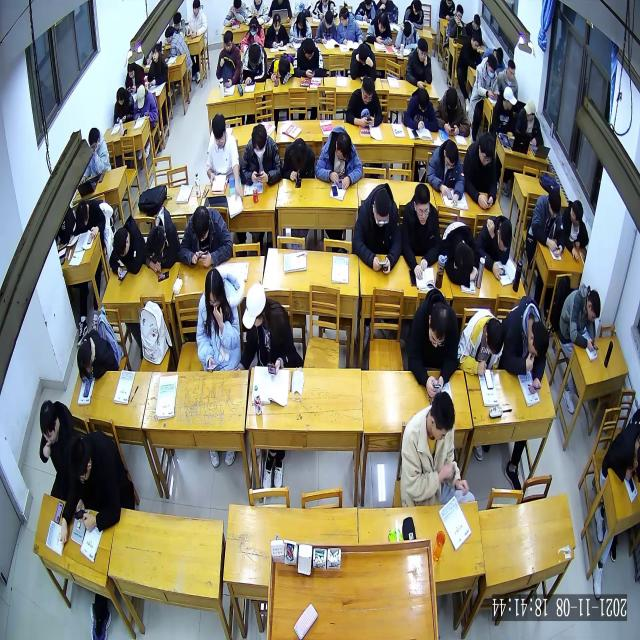bow: (501, 294, 550, 394), (440, 218, 480, 288), (141, 207, 181, 276), (476, 213, 514, 280), (109, 214, 146, 282), (76, 328, 117, 383), (69, 196, 107, 244), (283, 136, 316, 180), (240, 41, 267, 85), (349, 40, 378, 79), (364, 9, 392, 46), (266, 54, 295, 85), (394, 20, 420, 52), (222, 1, 246, 27), (172, 10, 185, 38)
down: (430, 391, 457, 442), (68, 433, 93, 487), (427, 299, 450, 349), (527, 319, 549, 360), (39, 398, 59, 443), (204, 266, 224, 311), (484, 318, 506, 357), (372, 189, 392, 229), (413, 182, 431, 226), (192, 205, 211, 242), (211, 112, 228, 152), (478, 130, 496, 166), (251, 121, 268, 158), (76, 342, 93, 378), (148, 224, 166, 256), (334, 131, 351, 164), (292, 139, 308, 173), (586, 289, 601, 325), (496, 219, 512, 252), (114, 227, 130, 258), (443, 140, 459, 171), (360, 76, 376, 106), (548, 188, 562, 220), (75, 198, 89, 228), (416, 86, 431, 113), (445, 86, 459, 114), (88, 126, 101, 154), (248, 41, 261, 69), (376, 8, 389, 33), (486, 53, 498, 80), (302, 38, 315, 62), (416, 38, 428, 63), (136, 84, 146, 110), (278, 57, 290, 78), (224, 30, 234, 54), (471, 30, 482, 50), (324, 9, 334, 30), (172, 10, 182, 30), (248, 16, 258, 36), (296, 10, 306, 30), (403, 20, 413, 40), (116, 86, 125, 106), (127, 60, 136, 80), (272, 12, 281, 32), (454, 2, 463, 22), (473, 12, 481, 29)
lookup: (506, 57, 516, 84), (152, 42, 160, 62), (192, 0, 200, 18)
sit: (399, 390, 469, 505), (68, 428, 132, 534), (36, 398, 80, 546), (235, 282, 300, 374), (406, 286, 459, 396), (196, 267, 245, 375), (352, 181, 404, 274), (401, 182, 440, 282), (178, 203, 234, 270), (456, 304, 507, 376), (205, 110, 244, 202), (462, 130, 499, 212), (315, 125, 363, 187), (558, 281, 600, 351), (239, 122, 283, 187), (427, 137, 465, 206), (529, 186, 565, 255), (601, 422, 640, 483), (345, 73, 383, 126), (562, 197, 590, 264), (435, 85, 470, 136), (403, 86, 439, 131), (215, 30, 242, 89), (404, 34, 432, 89), (516, 99, 545, 149), (85, 126, 111, 181), (292, 37, 325, 80), (491, 84, 518, 134), (474, 51, 500, 100), (336, 5, 363, 48), (456, 29, 482, 71), (146, 42, 169, 88), (133, 81, 158, 121), (264, 12, 289, 48), (241, 17, 265, 54), (164, 24, 189, 59), (314, 10, 338, 46), (114, 85, 134, 127), (288, 10, 312, 45), (185, 1, 207, 39), (498, 58, 518, 96), (124, 58, 145, 93), (448, 3, 466, 37), (466, 12, 483, 43)
